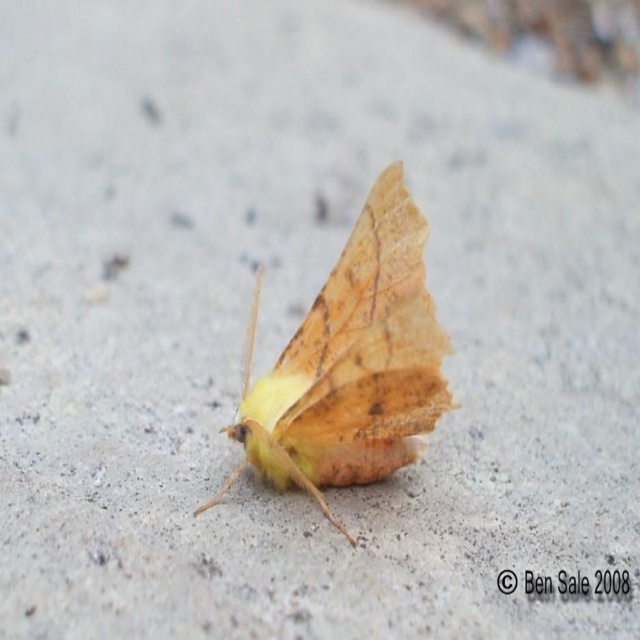Butterfly: (164, 141, 472, 565)
